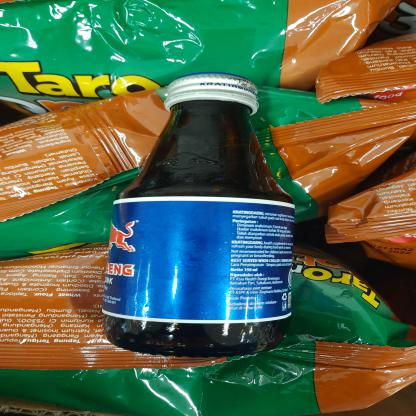bottle: (92, 71, 304, 360)
